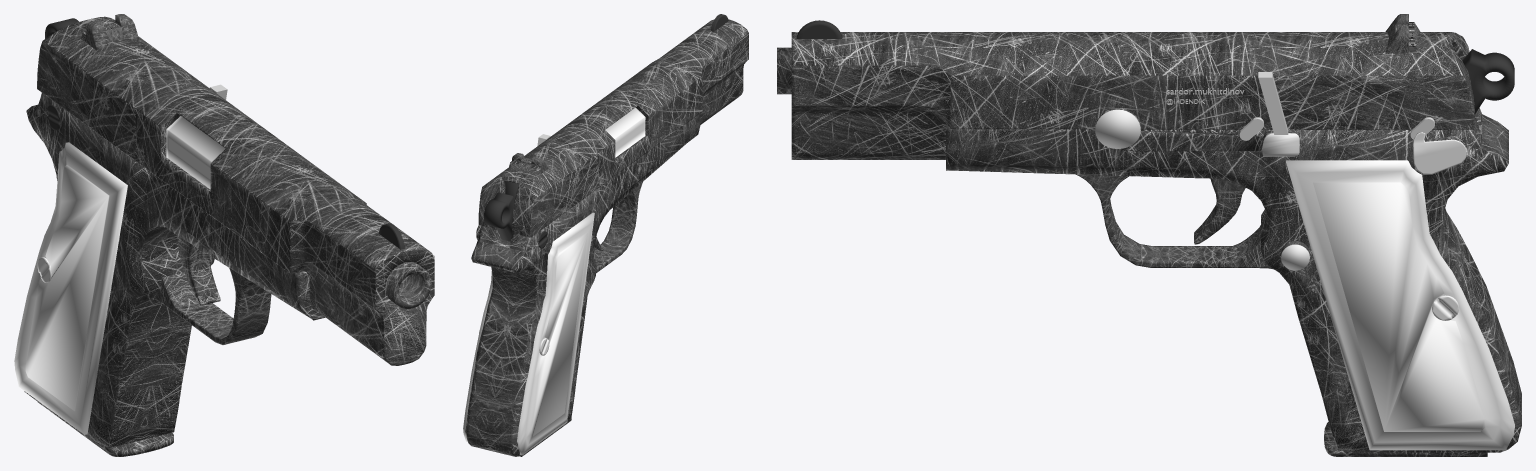
The model's file is gun.glb.
3 renders of one model, left to right at view 1: azimuth 30°, elevation 25°; view 2: azimuth 150°, elevation 25°; view 3: azimuth 270°, elevation 25°, orthographic. The views are drawn at different scales.
Visible parts, largest first — view 1: Head.004, Body.003, Handle Brown.001, Trigger.003, Bullet Hole.003, Aim.001, Magazine.001; view 2: Head.004, Body.003, Handle Brown.001, Trigger.003, Back Trigger.003, Aim.001; view 3: Head.004, Handle Brown.001, Body.003, Trigger.003, Trigger Safety.001, Back Trigger.003, Trigger Safety.006, Aim.001, Magazine.001, Boolean.003.
Part boxes in pixels (<box>): Head.004: <box>37,16,434,365</box>; Body.003: <box>24,93,325,447</box>; Handle Brown.001: <box>14,142,127,434</box>; Trigger.003: <box>150,235,271,344</box>; Bullet Hole.003: <box>385,262,431,308</box>; Aim.001: <box>80,14,139,50</box>; Magazine.001: <box>38,402,173,456</box>; Head.004: <box>478,19,748,237</box>; Body.003: <box>465,113,700,456</box>; Handle Brown.001: <box>463,212,594,455</box>; Trigger.003: <box>594,182,642,272</box>; Back Trigger.003: <box>483,192,514,241</box>; Aim.001: <box>508,153,547,177</box>; Head.004: <box>791,32,1474,159</box>; Handle Brown.001: <box>1286,160,1514,450</box>; Body.003: <box>946,101,1521,452</box>; Trigger.003: <box>1075,174,1273,269</box>; Trigger Safety.001: <box>1095,108,1299,156</box>; Back Trigger.003: <box>1462,49,1514,114</box>; Trigger Safety.006: <box>1413,132,1466,174</box>; Aim.001: <box>1385,14,1420,53</box>; Magazine.001: <box>1324,422,1487,456</box>; Boolean.003: <box>1258,72,1288,134</box>.
Bounding box in the file's own units: 0.0298 × 0.1241 × 0.1997.
Materials: 6 (1 with a texture image).
